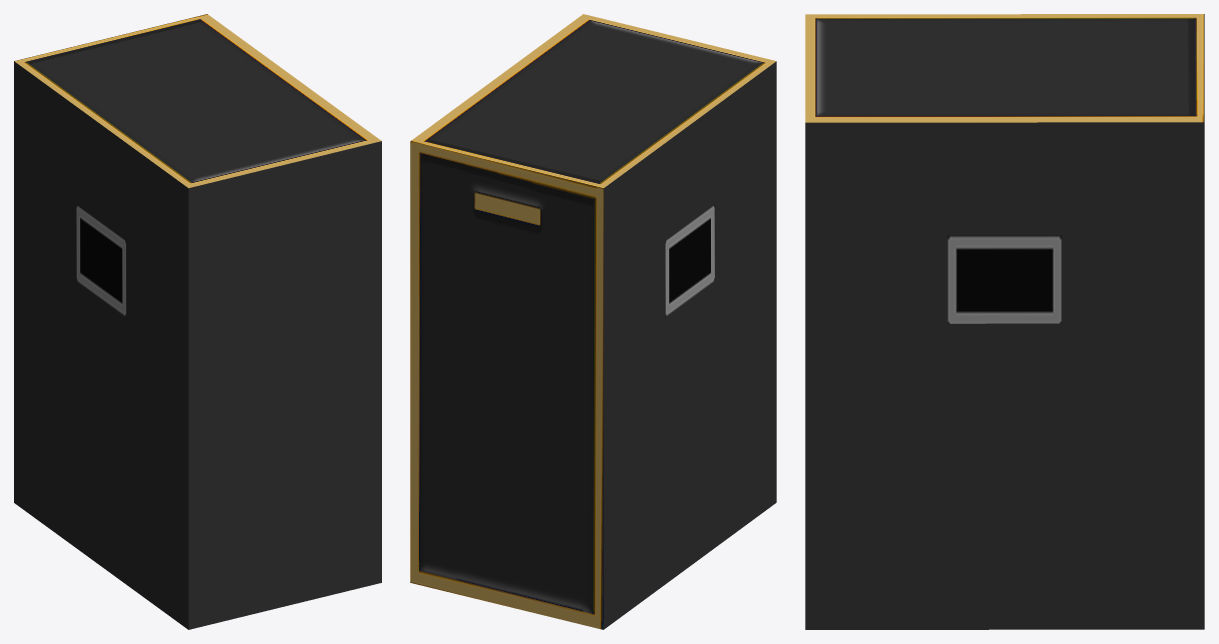
File: Huge_base_speaker_2.fbx
The picture shows the model from 3 angles, left to right: view 1: azimuth 30°, elevation 25°; view 2: azimuth 150°, elevation 25°; view 3: azimuth 270°, elevation 25°; orthographic projection. The views are drawn at different scales.
Visible parts, largest first — view 1: Huge_base_speaker_2; view 2: Huge_base_speaker_2; view 3: Huge_base_speaker_2.
Part boxes in pixels (x1,y1,x2,y2): Huge_base_speaker_2: (14, 14, 381, 629); Huge_base_speaker_2: (410, 14, 776, 629); Huge_base_speaker_2: (805, 14, 1204, 629).
Size of the model in its own units: 1.83 by 3.98 by 2.84.
